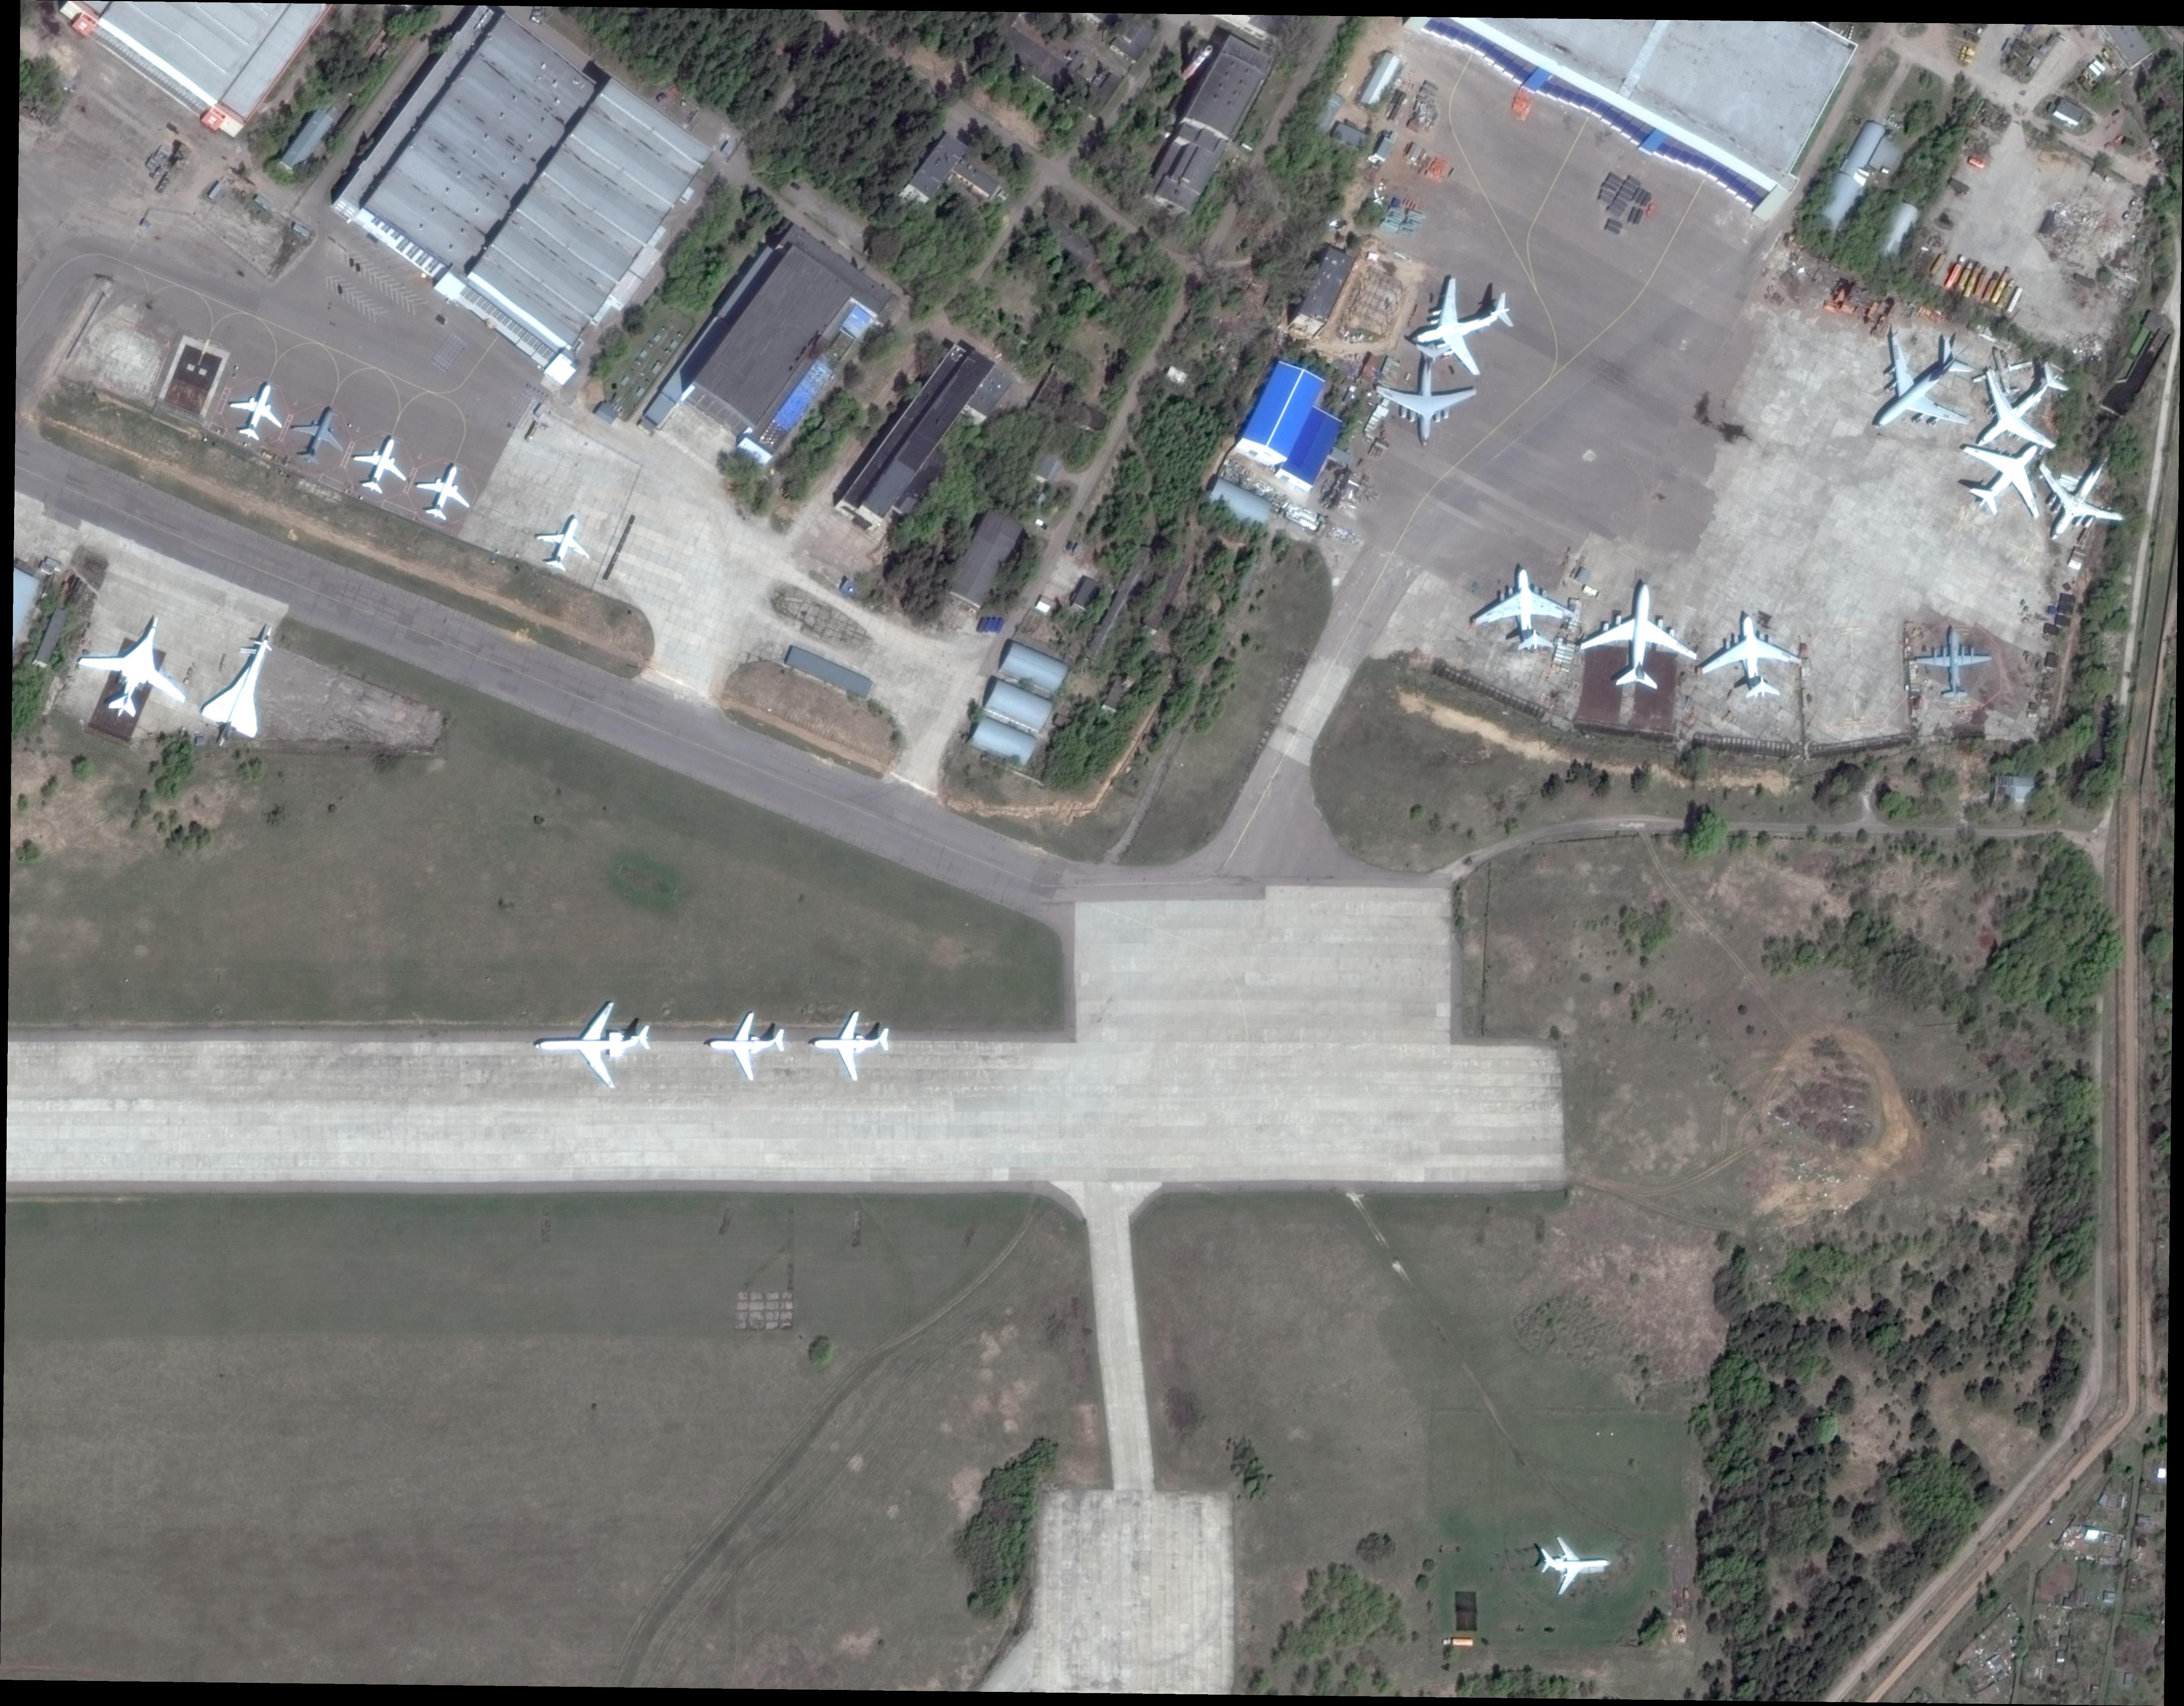plane: (1830, 304, 2005, 469), (1944, 337, 2092, 481), (67, 597, 204, 736), (2014, 432, 2143, 564), (1944, 414, 2069, 535), (192, 612, 297, 754), (1400, 270, 1527, 385), (1580, 576, 1699, 695), (1374, 342, 1476, 447), (533, 1001, 653, 1089), (1696, 612, 1806, 697), (1469, 566, 1575, 653), (1912, 626, 1994, 697), (707, 1009, 788, 1079), (343, 424, 417, 501), (527, 504, 601, 578), (809, 1012, 892, 1079), (408, 453, 480, 527), (222, 372, 292, 447), (283, 397, 353, 472), (1538, 1534, 1609, 1595), (1968, 342, 2036, 400)
